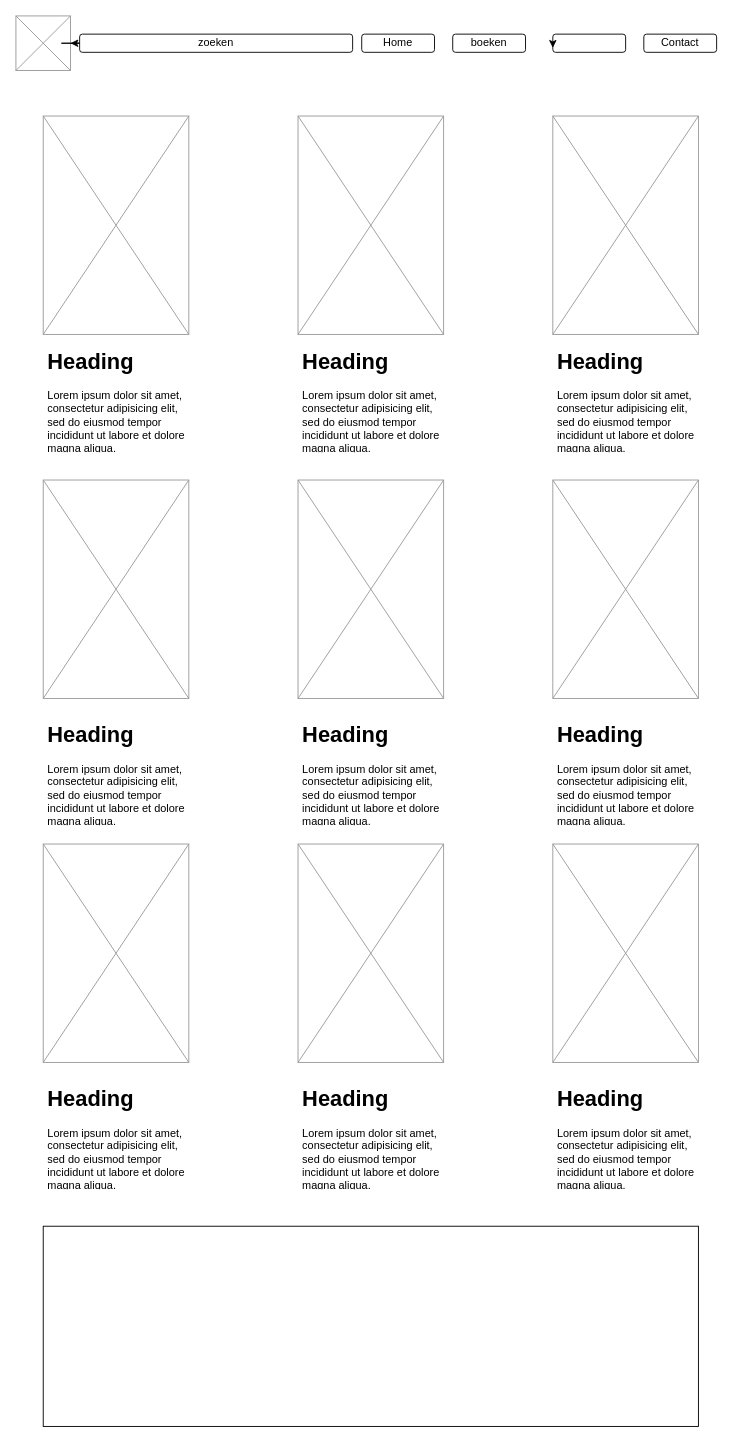
Some shapes in this 733 by 1442 pixel diagram are drawn without their labels. The box of each missing label's shape, as (x1, y1, x2, y2) in pixels:
Footer: (42, 1225, 698, 1426)
Top 10: (552, 33, 626, 52)
